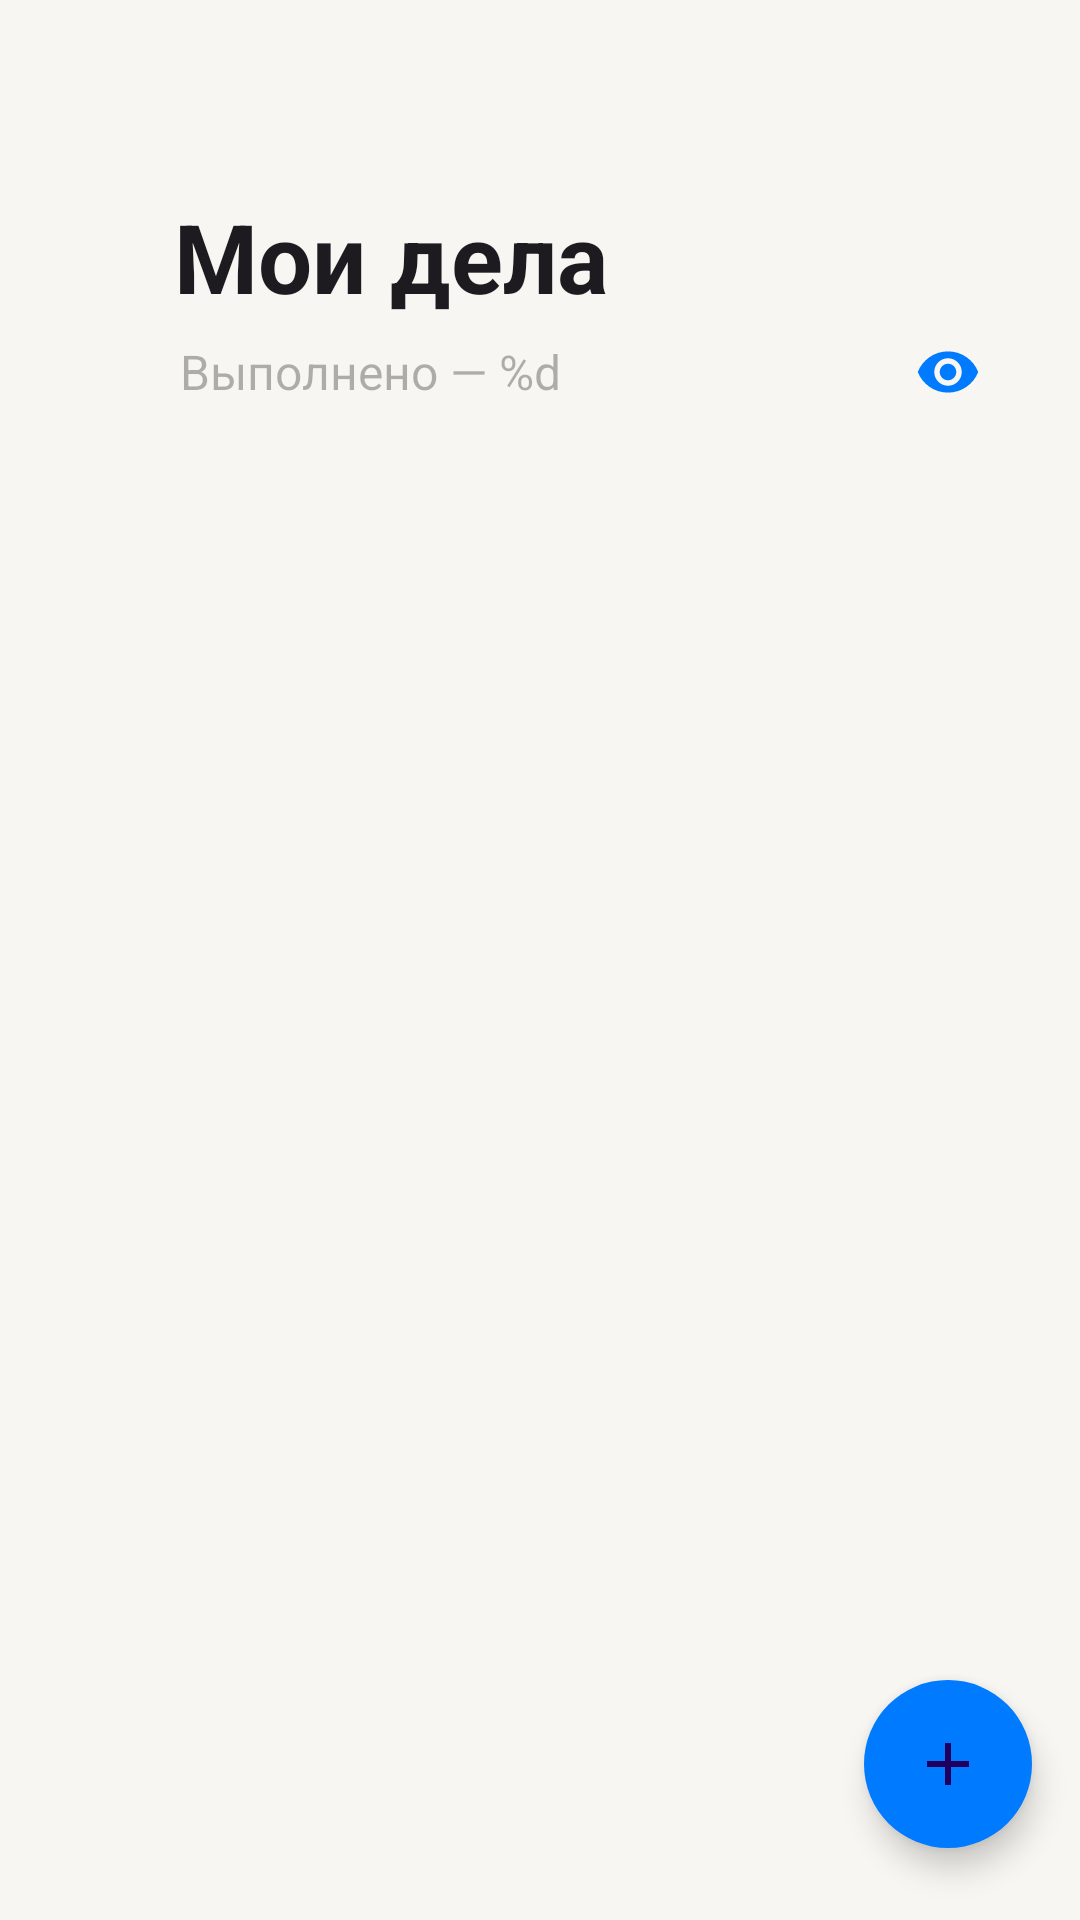

Locate icon controls on the screen. Image size 1080w x 1920h, boxes as BBox(x1, y1, x2, y2).
Добавить новую задачу: BBox(864, 1680, 1032, 1848)
Скрыть завершённые: BBox(918, 351, 978, 393)
